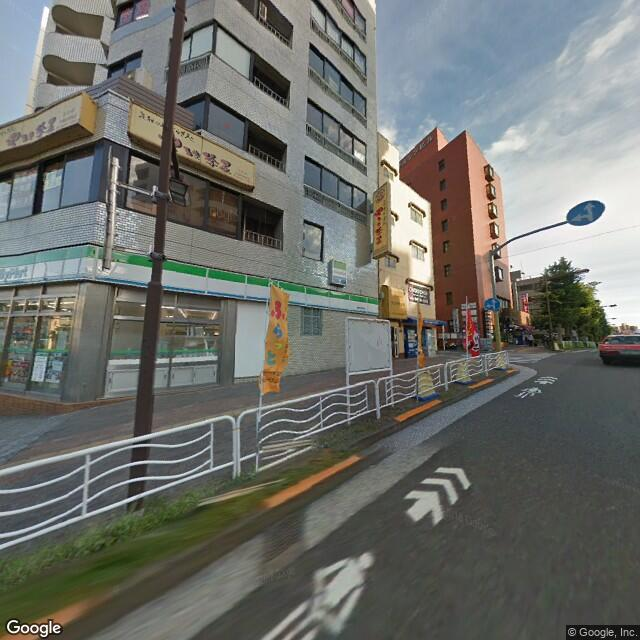family_mart: (2, 244, 381, 321), (330, 257, 349, 285)
